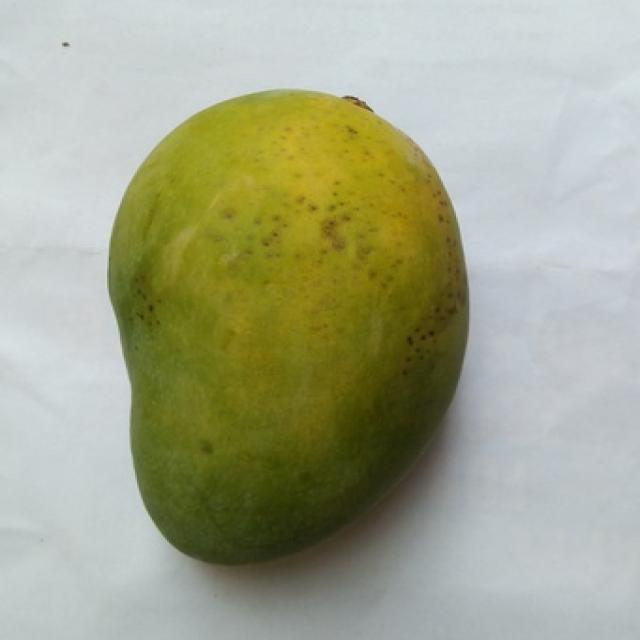Mango: (109, 91, 467, 561)
